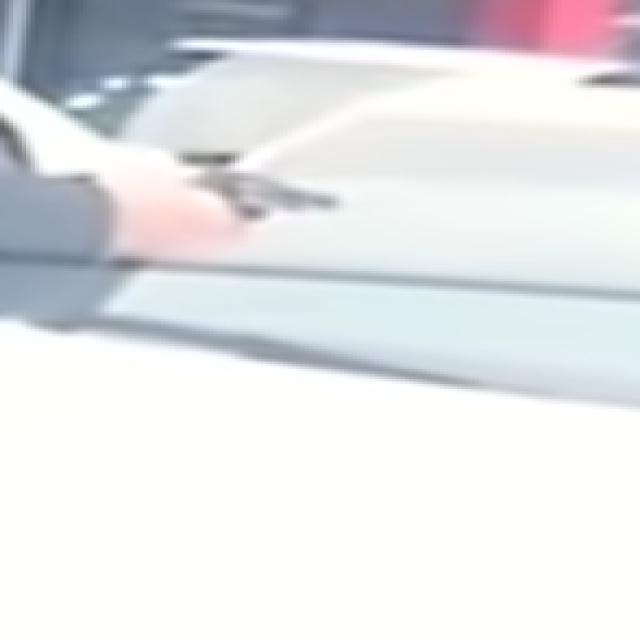FPistol: (191, 160, 344, 231)
